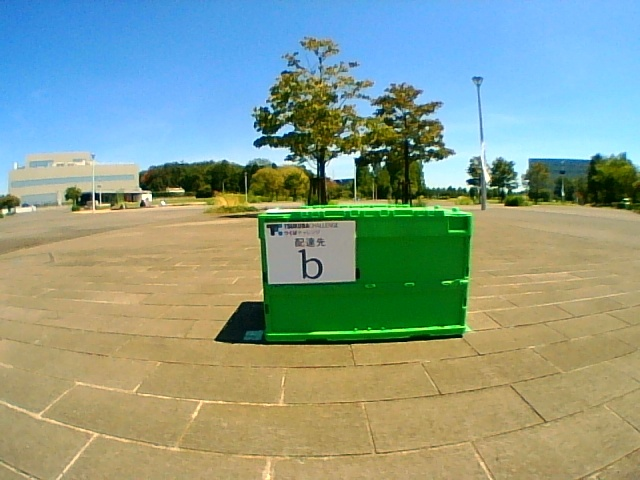green_box: (258, 204, 472, 342)
tag_b: (268, 224, 354, 282)
